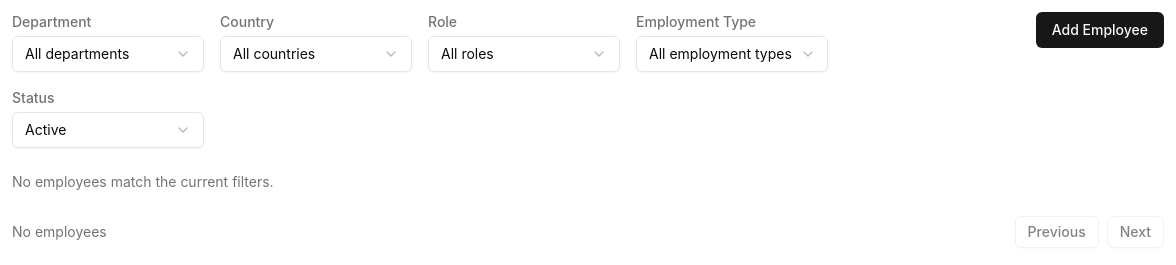
Test: EmployeeListPage › does not offer an All option in the Status dropdown
Click the dropdown named "Status": click(108, 130) [12,112,204,148]
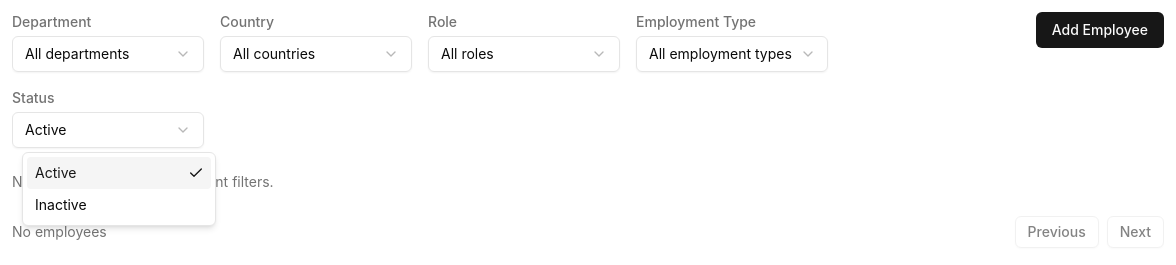
Expected: the options read "Active", "Inactive", in this order, [27,157,211,189]; [35,196,87,213]
